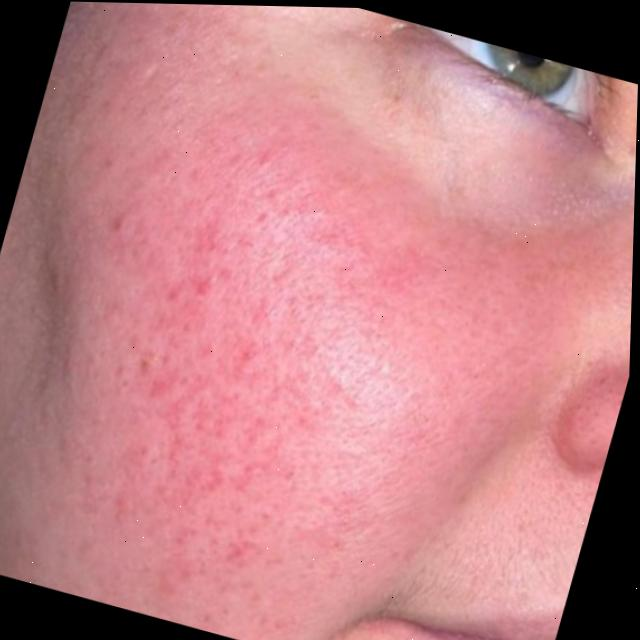Rosacea: (2, 48, 516, 636)
